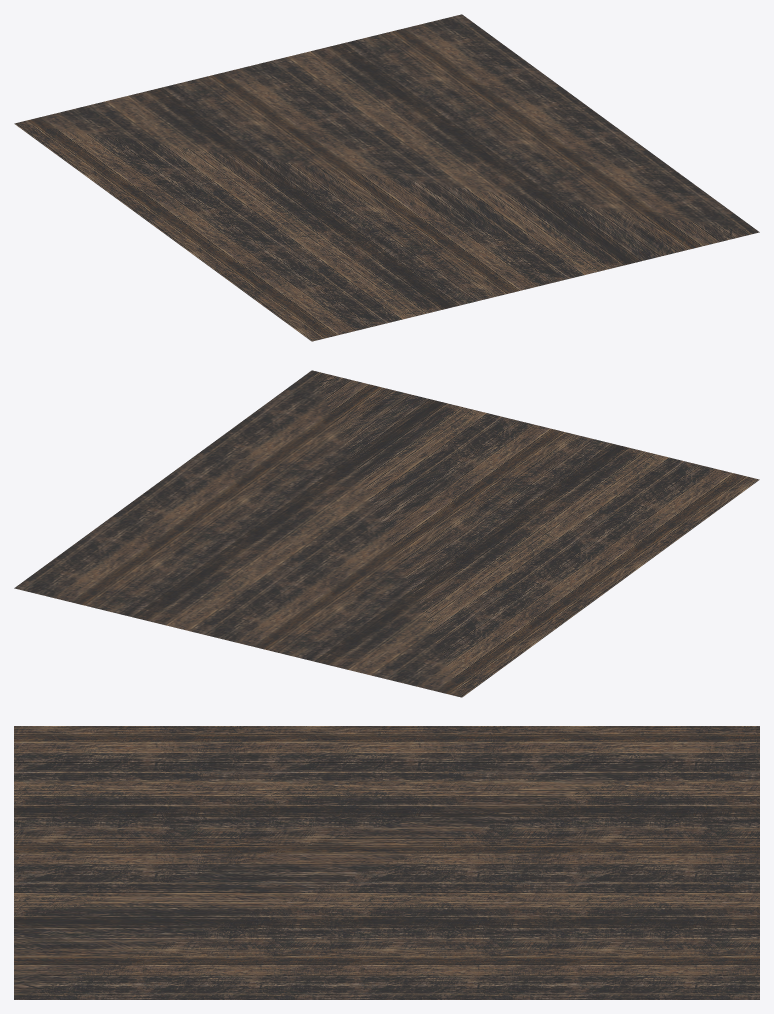
Rendered from DarkWoodBoard.glb.
3 views of the same model, one above another, from view 1: azimuth 30°, elevation 25°; view 2: azimuth 150°, elevation 25°; view 3: azimuth 270°, elevation 25° (orthographic). The views are drawn at different scales.
Visible parts, largest first — view 1: geometry_rs-13789; view 2: geometry_rs-13789; view 3: geometry_rs-13789.
Boxes of the visible parts, x1,y1,x2,y2 form: geometry_rs-13789: (14, 14, 759, 341); geometry_rs-13789: (14, 370, 759, 697); geometry_rs-13789: (14, 726, 759, 999).
Size of the model in its own units: 4.92 by 0 by 5.67.
1 material, 1 textured.
